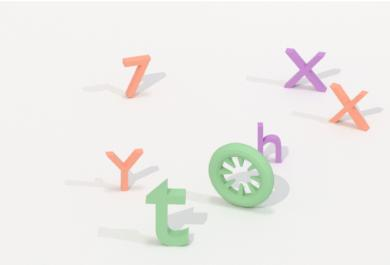7: (119, 49, 154, 103)
X: (325, 78, 371, 136), (282, 42, 328, 97)
Y: (103, 144, 147, 195)
h: (254, 117, 284, 170)
t: (204, 140, 276, 213), (143, 175, 194, 251)
